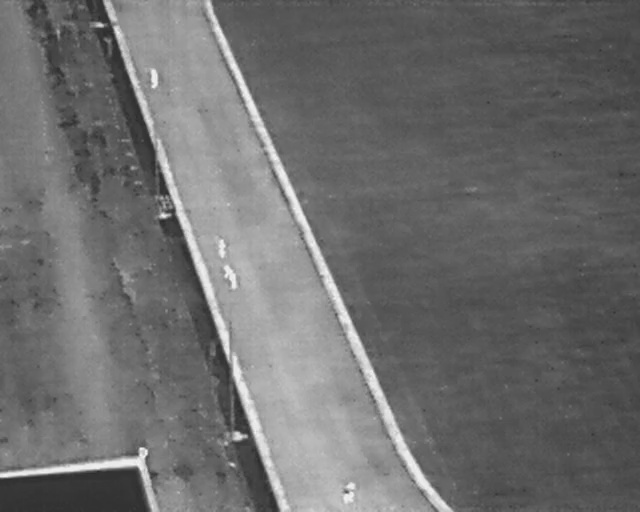Person: (218, 262, 242, 292), (341, 479, 358, 506), (147, 67, 159, 91), (216, 236, 228, 260)
